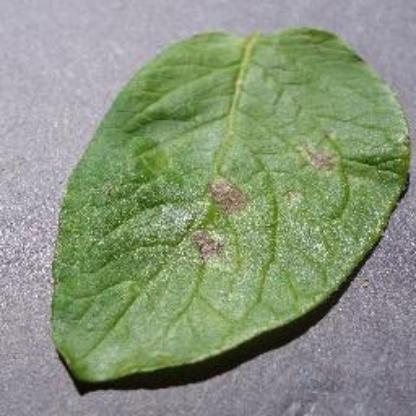Early-Blight: (49, 17, 416, 393)
